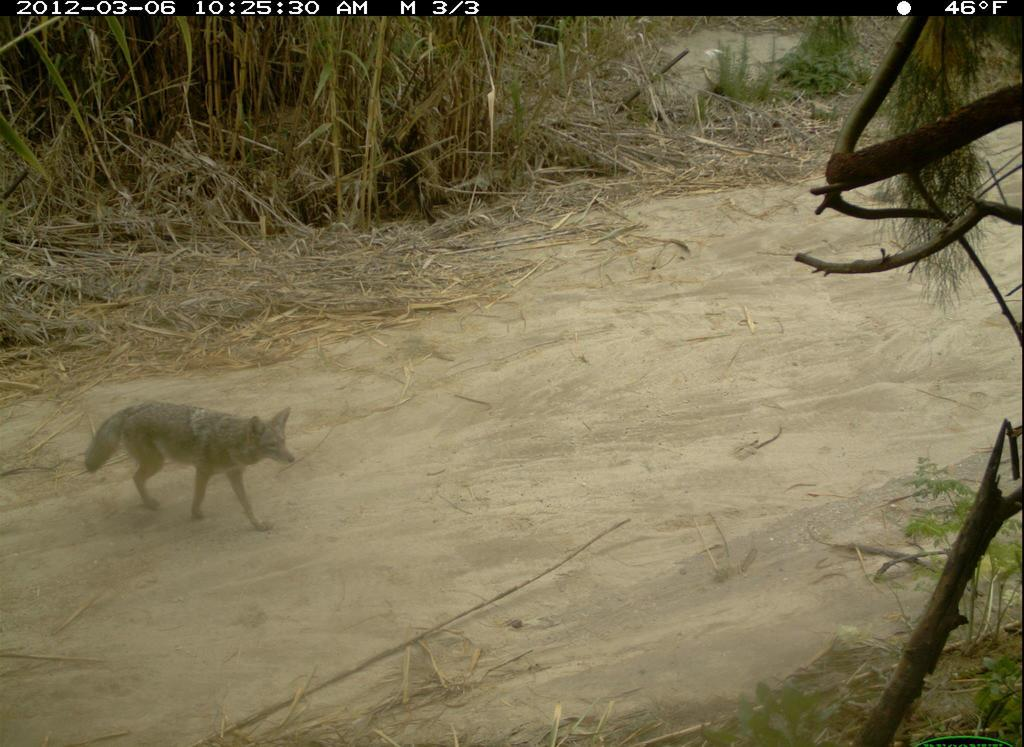coyote: (77, 399, 305, 538)
